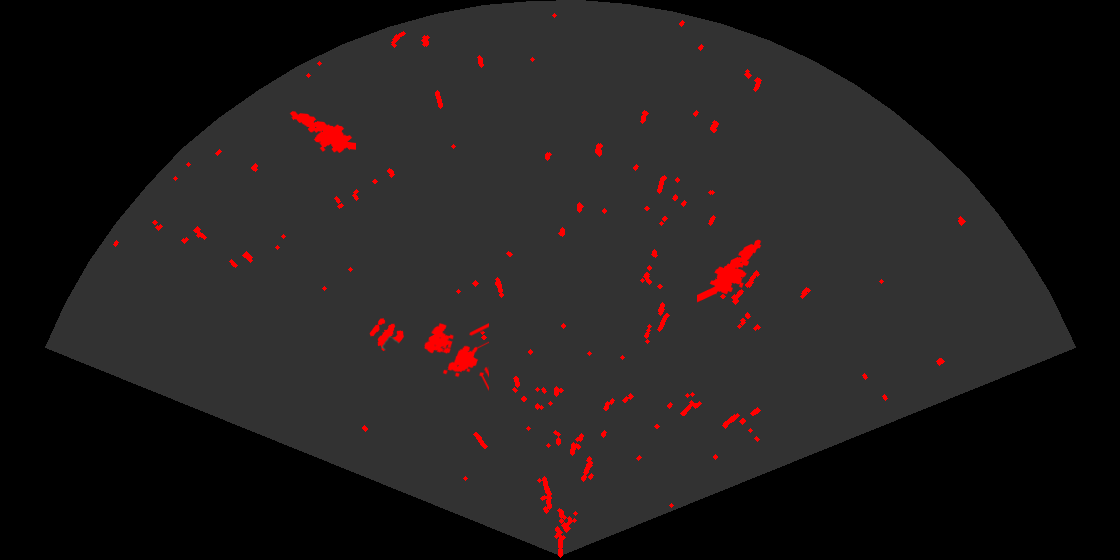ball: (368, 317, 406, 353)
cage: (423, 321, 489, 392)
frogman: (697, 238, 763, 304), (288, 110, 356, 154)
